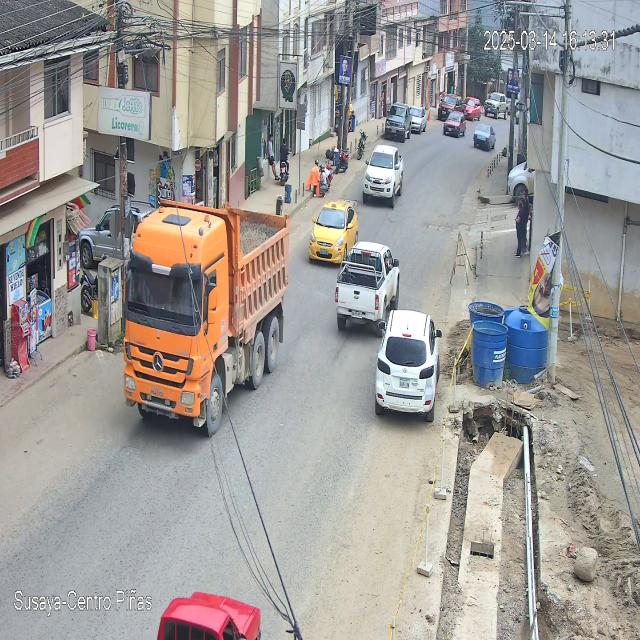CMT: (335, 240, 400, 338), (362, 144, 404, 208)
SED: (308, 202, 358, 268)
SUV: (373, 310, 442, 420)
TRUCK: (124, 202, 290, 434)
